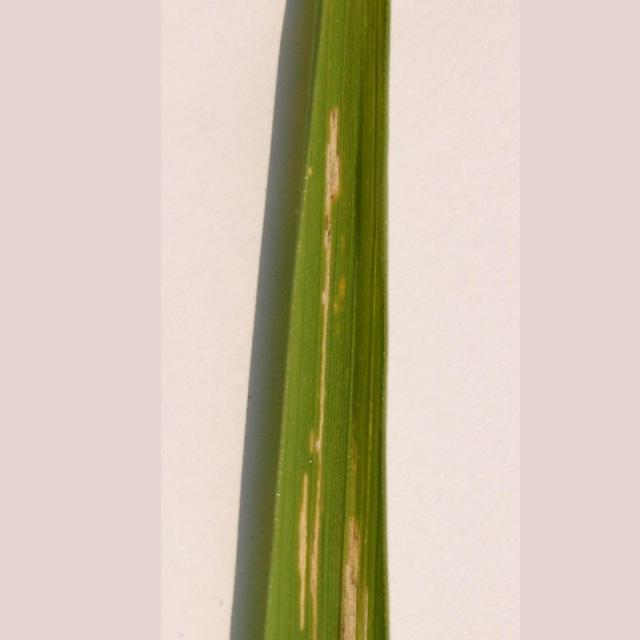leaf blight: (285, 101, 386, 640)
